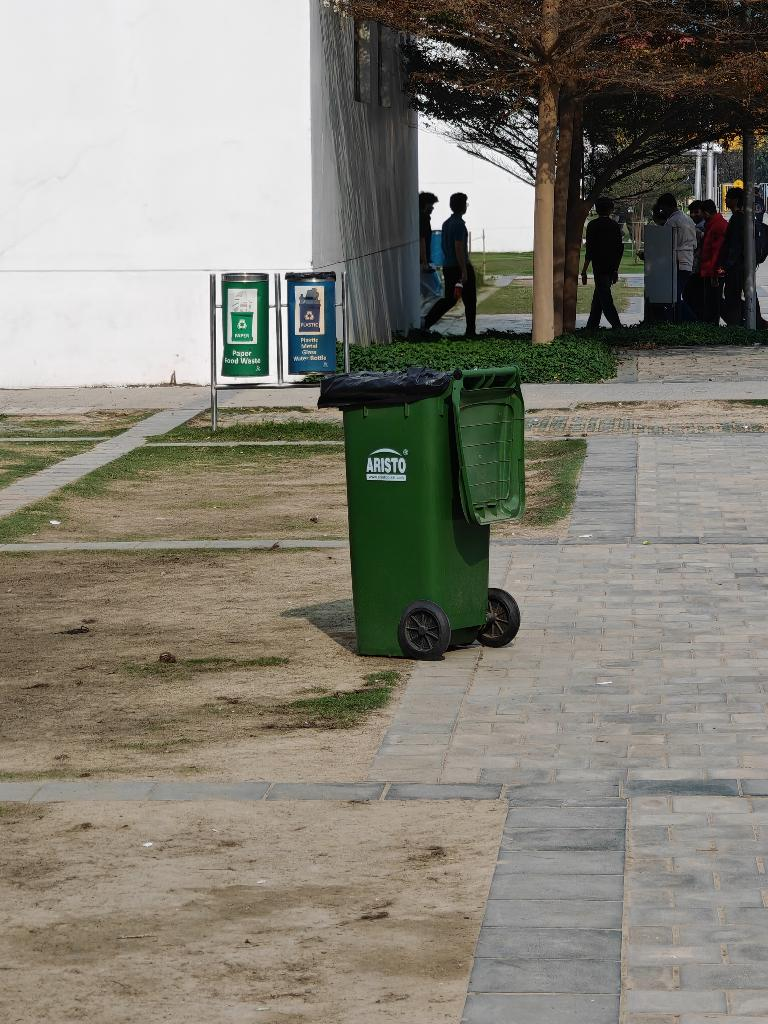dustbin: (310, 352, 542, 688), (201, 242, 359, 423)
